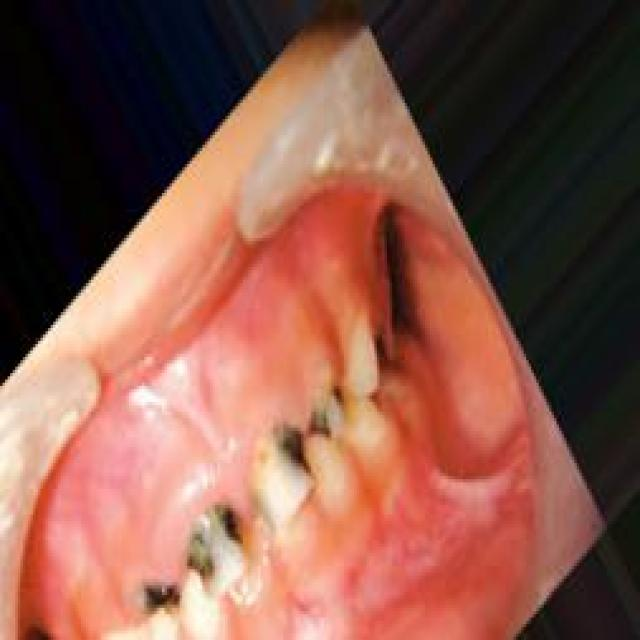caries: (183, 500, 254, 595), (244, 405, 312, 502), (298, 378, 350, 446), (132, 566, 183, 622)
